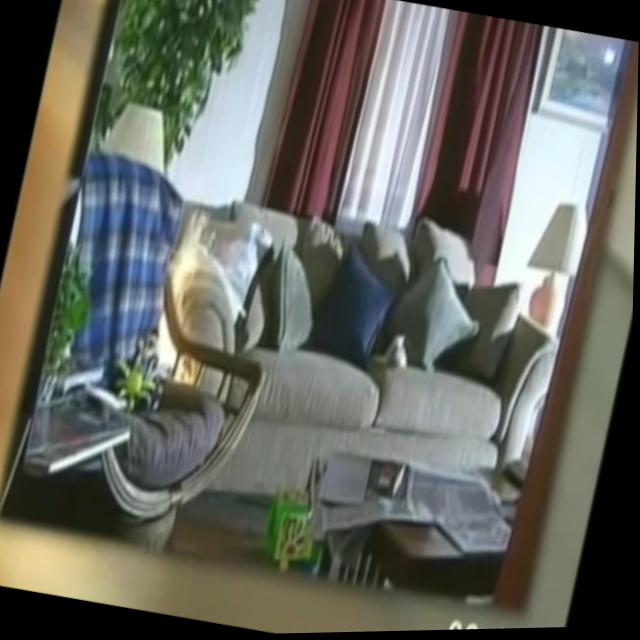fire: (144, 200, 232, 385)
